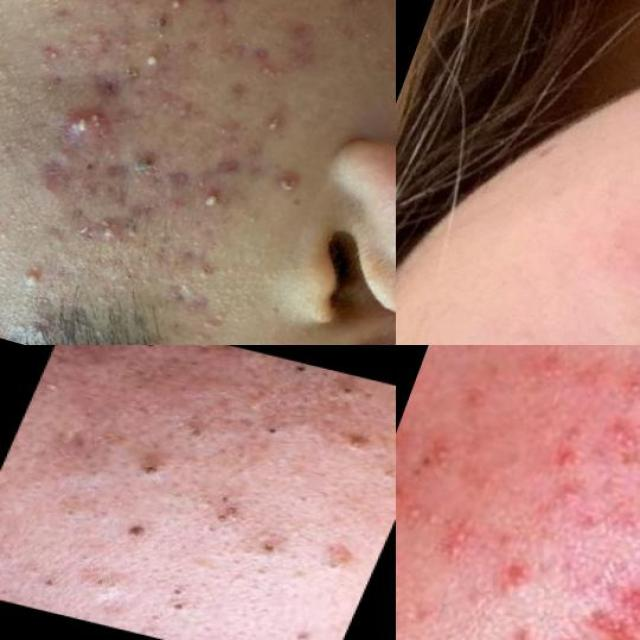acne_scars: (589, 575, 640, 632)
comedone: (416, 398, 479, 481), (425, 512, 495, 571), (244, 396, 304, 462), (144, 567, 209, 620), (107, 446, 181, 492), (196, 483, 251, 538), (240, 516, 298, 568), (594, 402, 640, 460), (402, 486, 445, 532), (176, 249, 225, 288), (32, 34, 84, 70), (39, 136, 85, 175), (316, 373, 368, 403), (165, 416, 212, 442), (105, 345, 172, 362)
papule: (536, 430, 591, 479)
pustule: (178, 175, 238, 221), (122, 39, 179, 79), (9, 257, 56, 299), (264, 163, 310, 202), (256, 106, 294, 142), (396, 463, 411, 519), (155, 0, 190, 19), (536, 628, 590, 640)
sebo-crystan-conglo: (68, 202, 167, 265), (42, 91, 122, 152)
